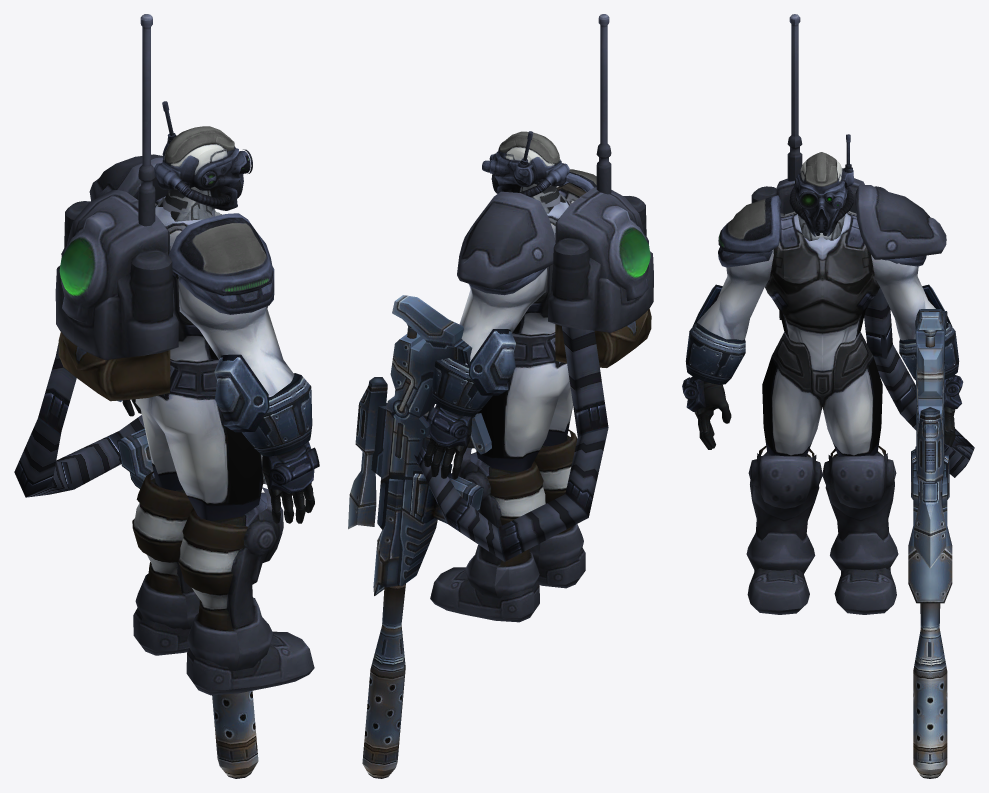
File: ghost_sc2.glb
3 renders of one model, left to right at view 1: azimuth 30°, elevation 25°; view 2: azimuth 150°, elevation 25°; view 3: azimuth 270°, elevation 25°, orthographic. The views are drawn at different scales.
Visible parts, largest first — view 1: Terran Ghost (SC2); view 2: Terran Ghost (SC2); view 3: Terran Ghost (SC2).
Boxes of the visible parts, bbox=[...] form: Terran Ghost (SC2): bbox=[14, 14, 319, 778]; Terran Ghost (SC2): bbox=[348, 14, 653, 778]; Terran Ghost (SC2): bbox=[682, 14, 974, 778].
Size of the model in its own units: 0.7925 by 2.35 by 0.9.
Materials: 4 (4 with a texture image).
